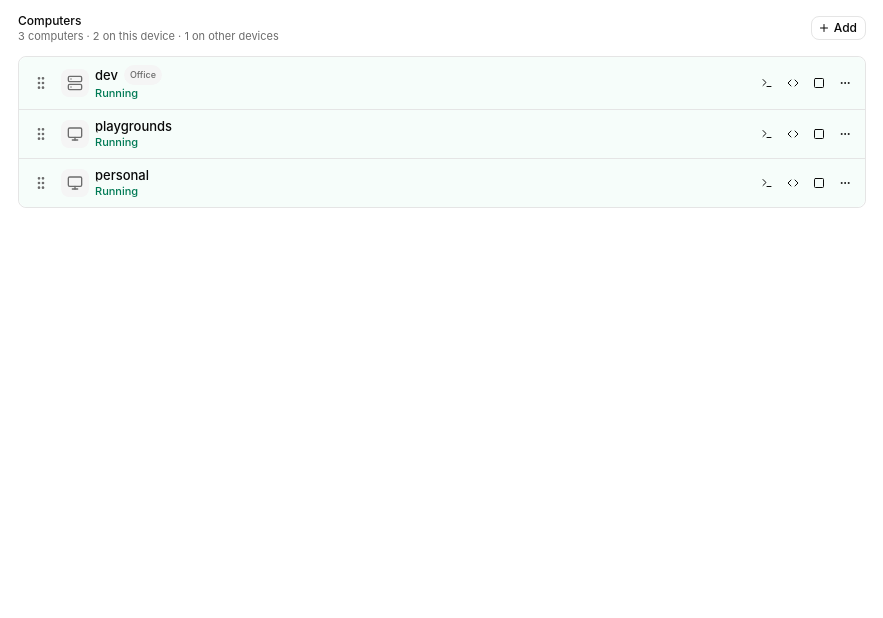
Test: never lists a same-named local computer's secrets on a remote computer page
Click the button with aria-label "Open dev" at (106, 75), box [95,67,118,83]
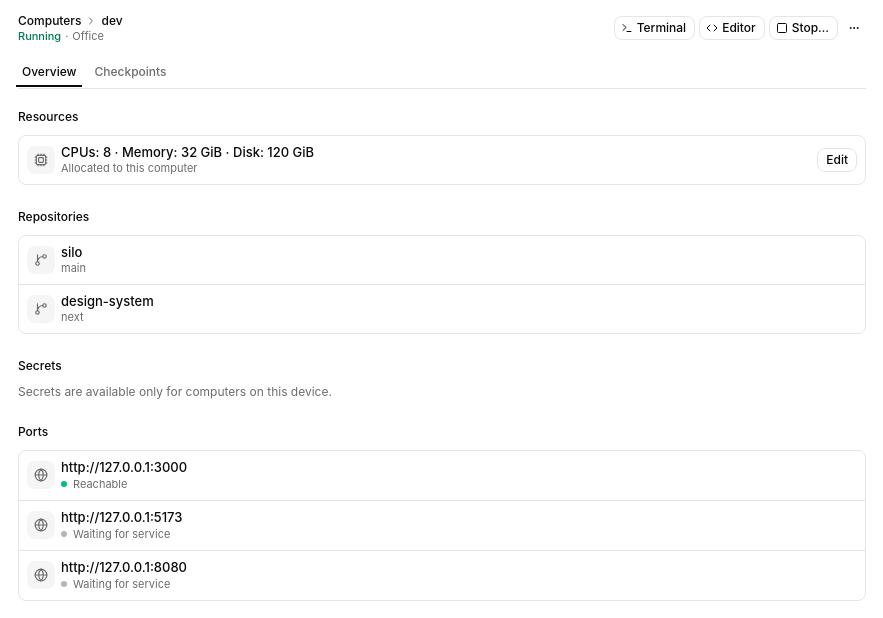
Expected: the text "Secrets are available only for computers on this device." is shown, [18,384,332,399]
